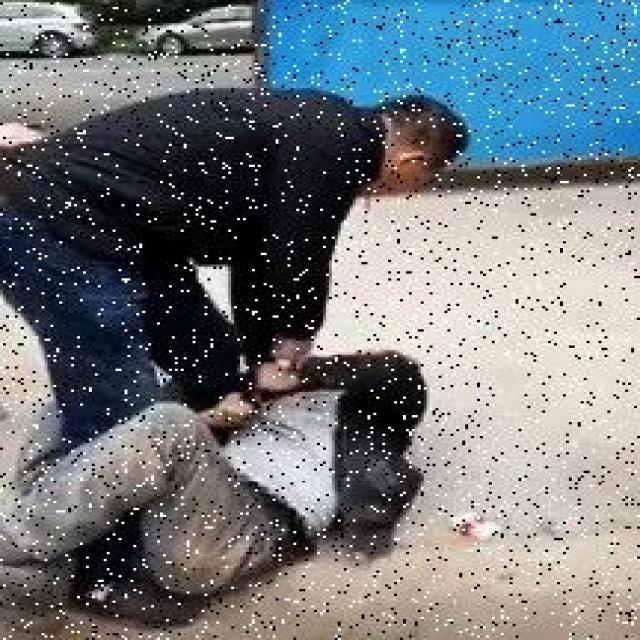fall: (9, 341, 415, 626)
